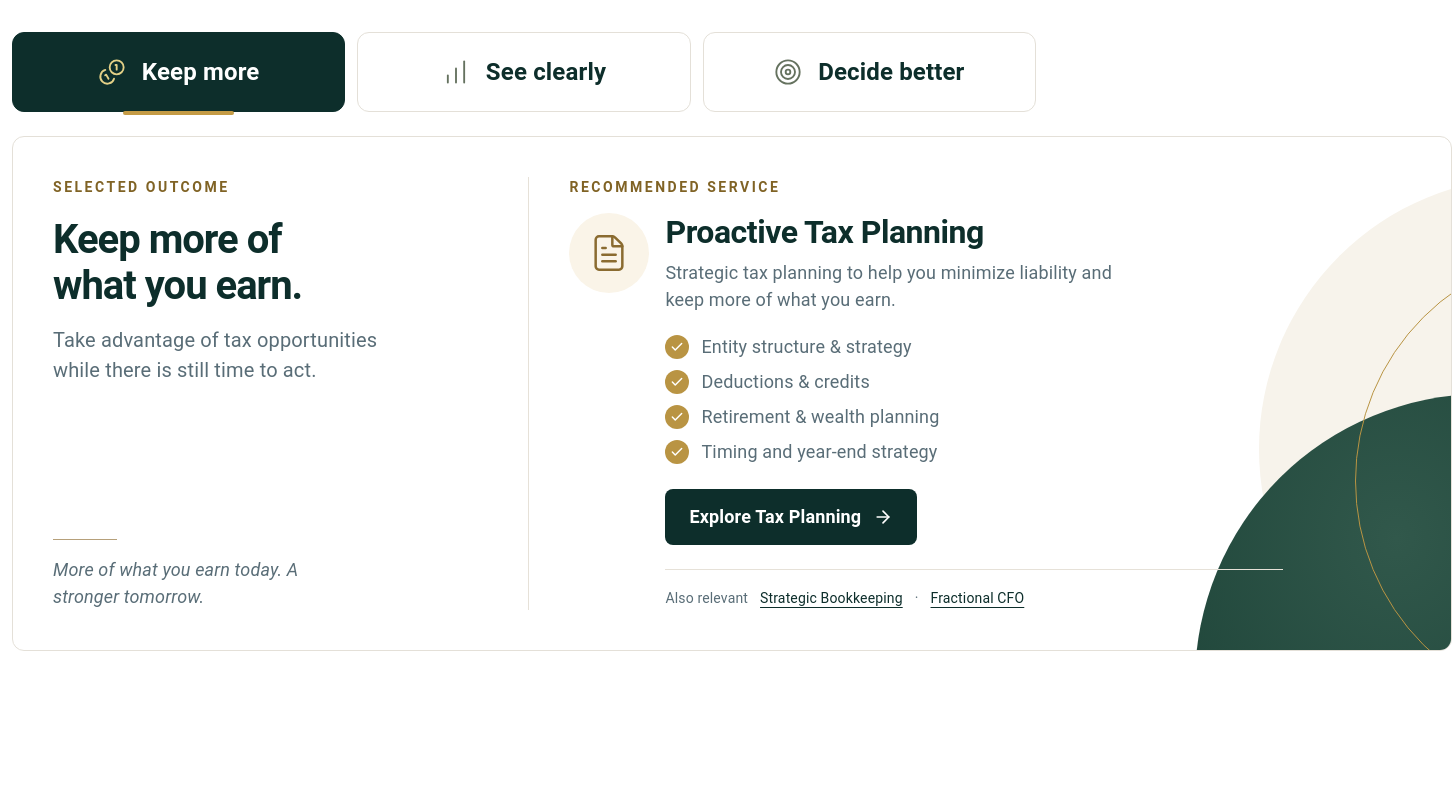
Test: homepage outcome journeys › switches the visible journey and primary destination on each tab click
Click the tab "See clearly" at (524, 72), box [357,32,691,112]
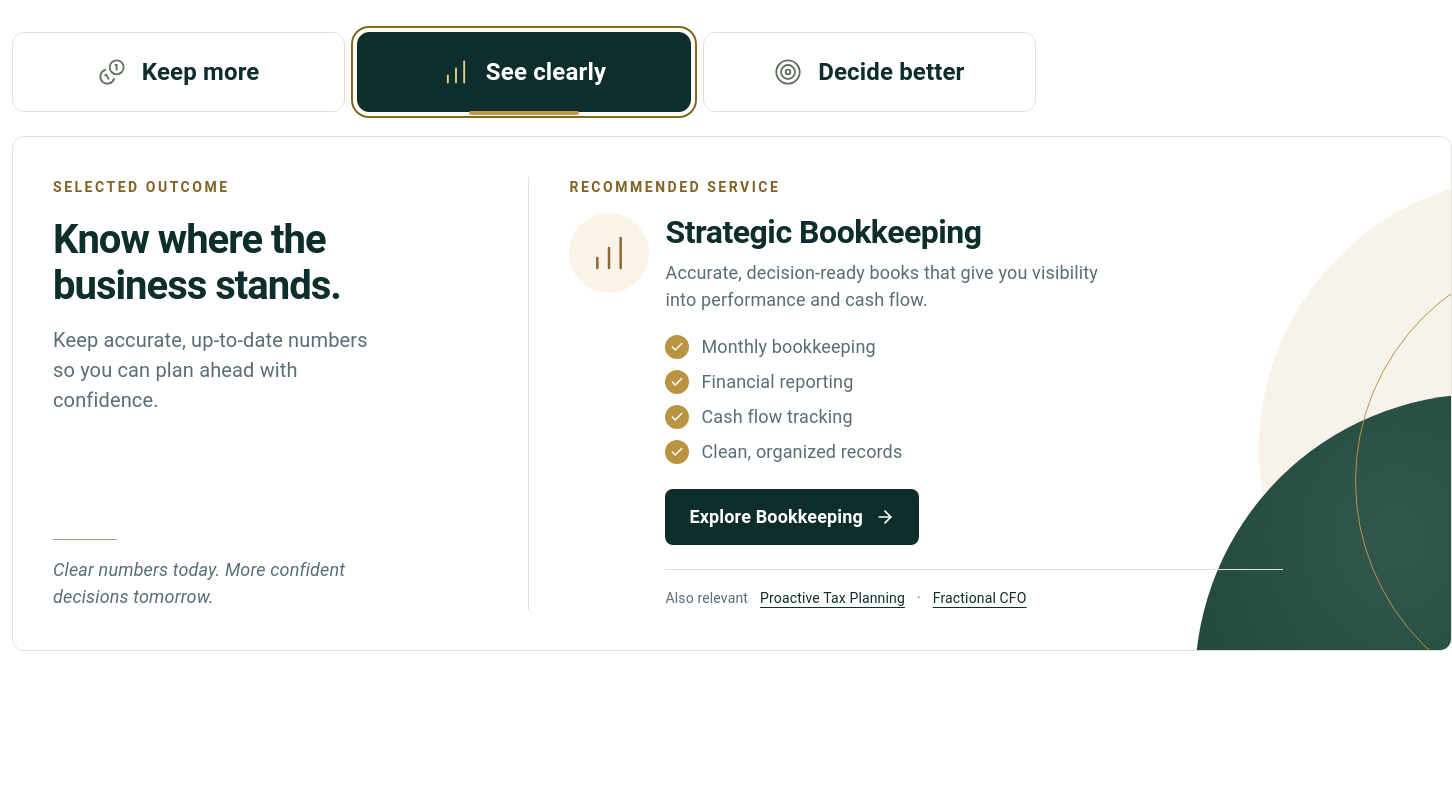
Check: the heading "Know where the business stands." is shown, box [53,216,341,309]
Click the tab "Decide better" at (869, 72), box [703,32,1036,112]
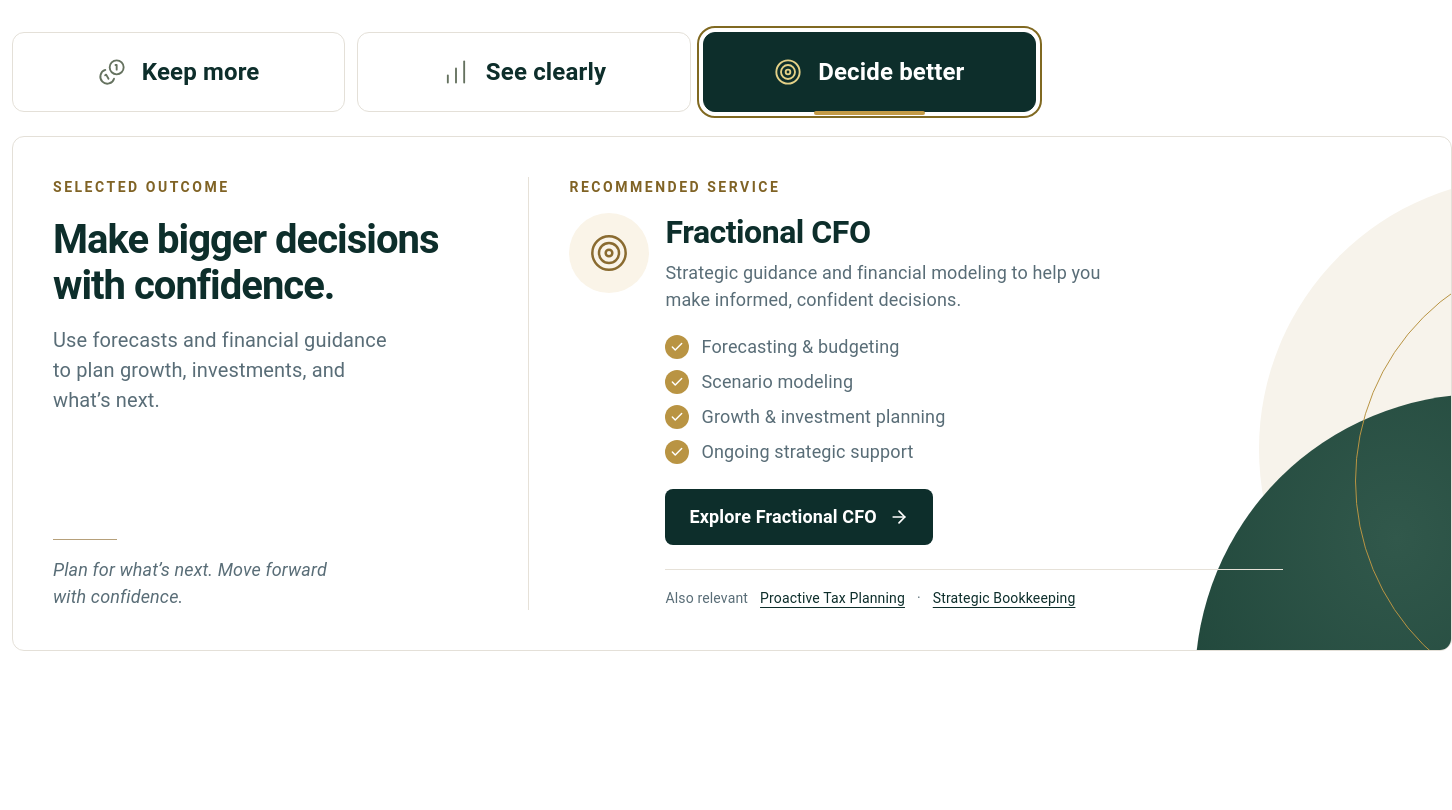
Check: the heading "Make bigger decisions with confidence." is shown, box [53,217,466,309]
Click the tab "Keep more" at (179, 72), box [12,32,345,112]
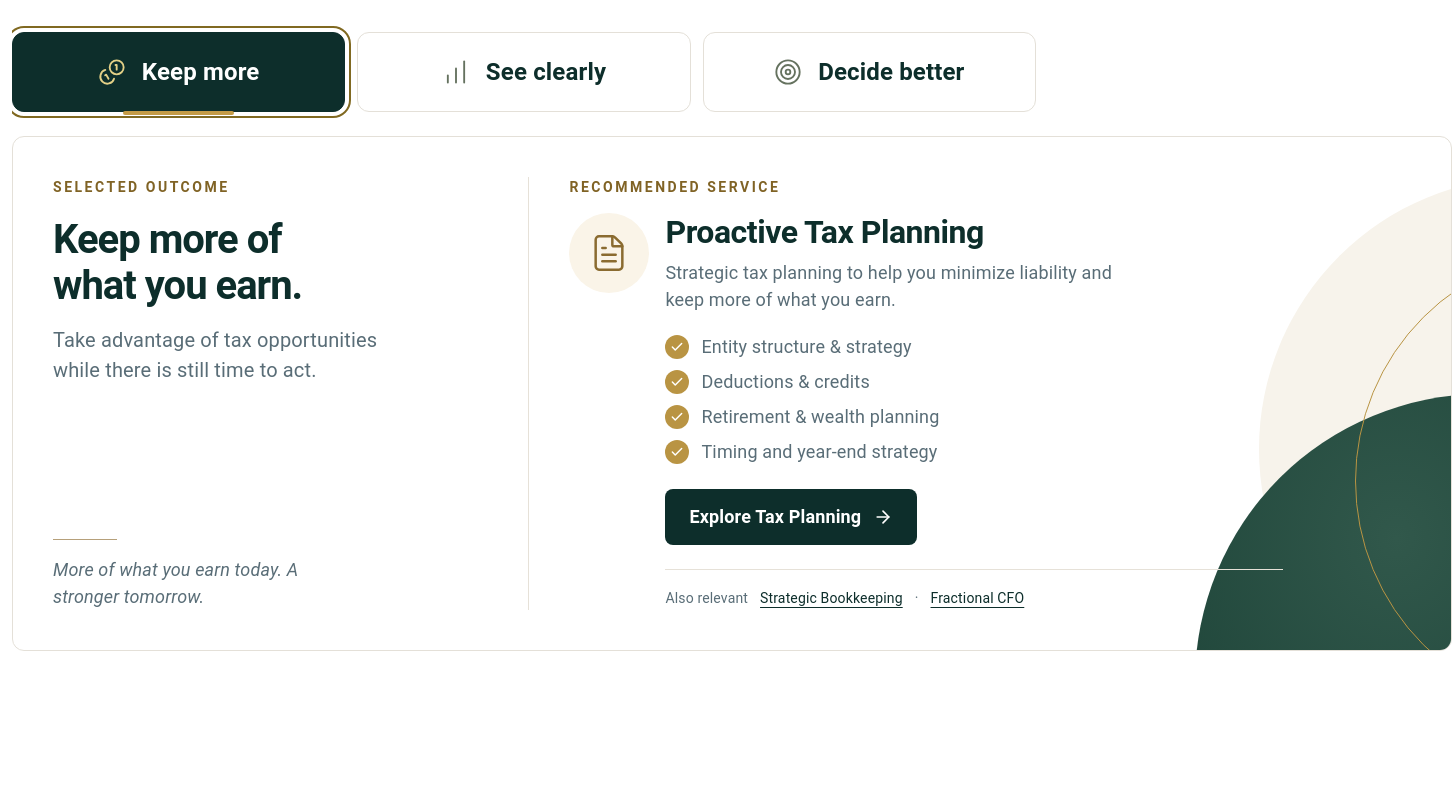
Check: the heading "Keep more of what you earn." is shown, box [53,216,302,309]
